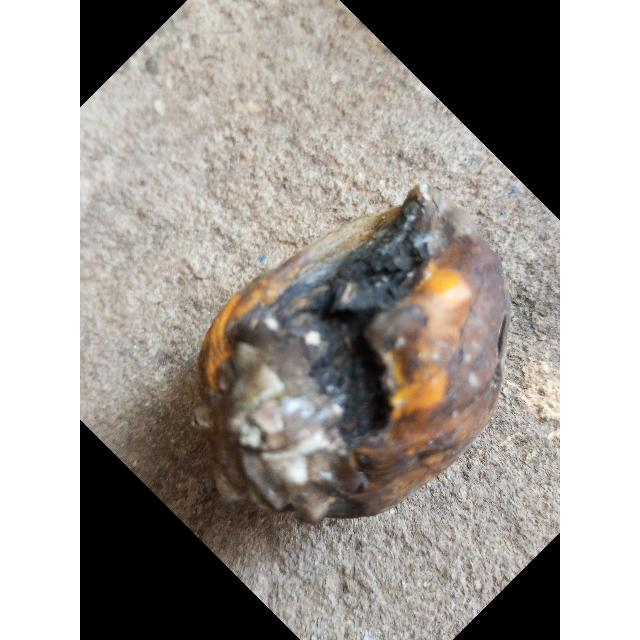damaged: (192, 189, 510, 527)
